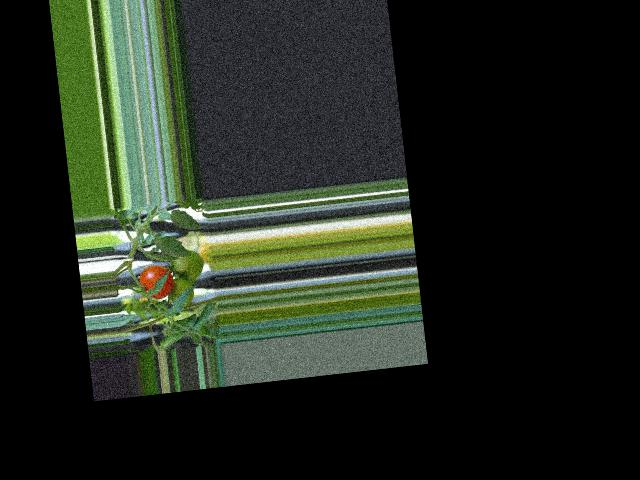tomato: (137, 262, 175, 300)
